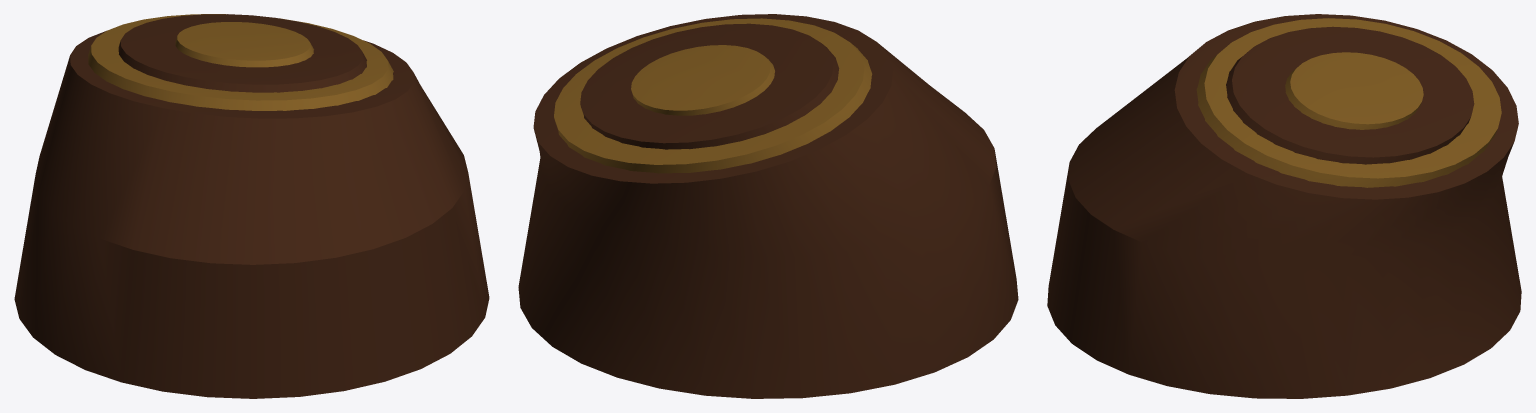
The model's file is Tronc.fbx.
3 views of the same model, side by side, from view 1: azimuth 30°, elevation 25°; view 2: azimuth 150°, elevation 25°; view 3: azimuth 270°, elevation 25° (orthographic). The views are drawn at different scales.
Visible parts, largest first — view 1: Cylinder.038; view 2: Cylinder.038; view 3: Cylinder.038.
Part boxes in pixels (x1=…): Cylinder.038: x1=14, y1=14, x2=489, y2=398; Cylinder.038: x1=518, y1=14, x2=1018, y2=398; Cylinder.038: x1=1047, y1=14, x2=1521, y2=398.
Size of the model in its own units: 384 by 211 by 384.
